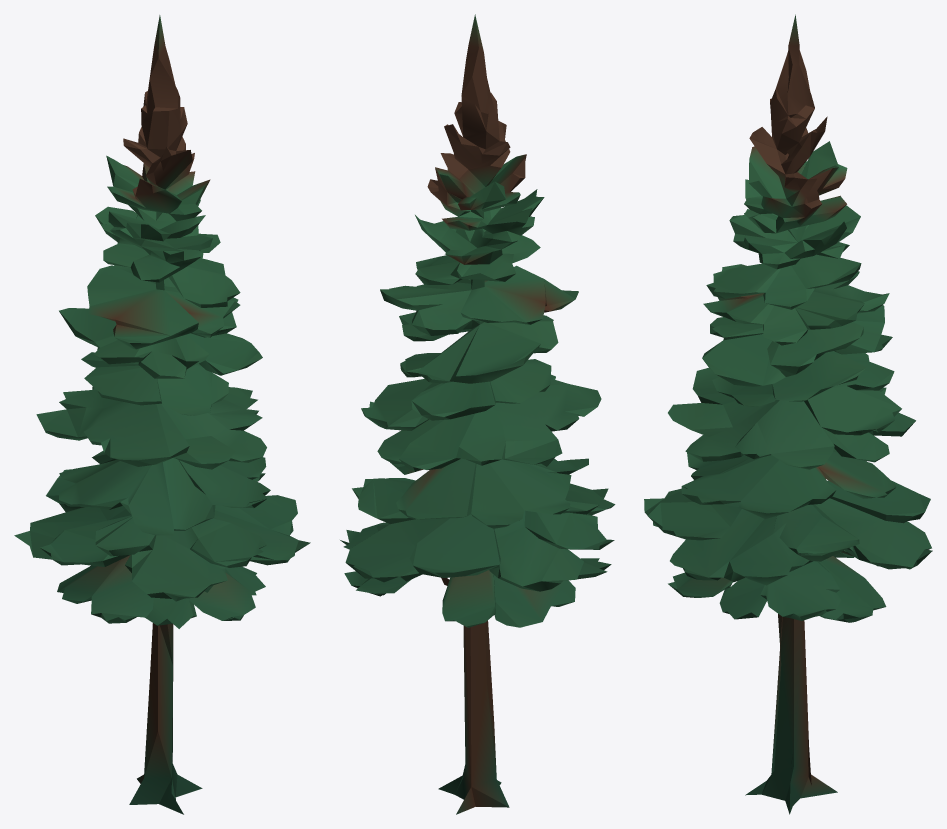
3 views of the same model, side by side, from view 1: azimuth 30°, elevation 25°; view 2: azimuth 150°, elevation 25°; view 3: azimuth 270°, elevation 25° (orthographic).
Visible parts, largest first — view 1: output_unwrapped; view 2: output_unwrapped; view 3: output_unwrapped.
Boxes of the visible parts, <box> form: output_unwrapped: <box>14,15,310,814</box>; output_unwrapped: <box>340,14,615,814</box>; output_unwrapped: <box>644,14,932,814</box>.
Bounding box in the file's own units: 0.6336 × 1.9 × 0.6352.
